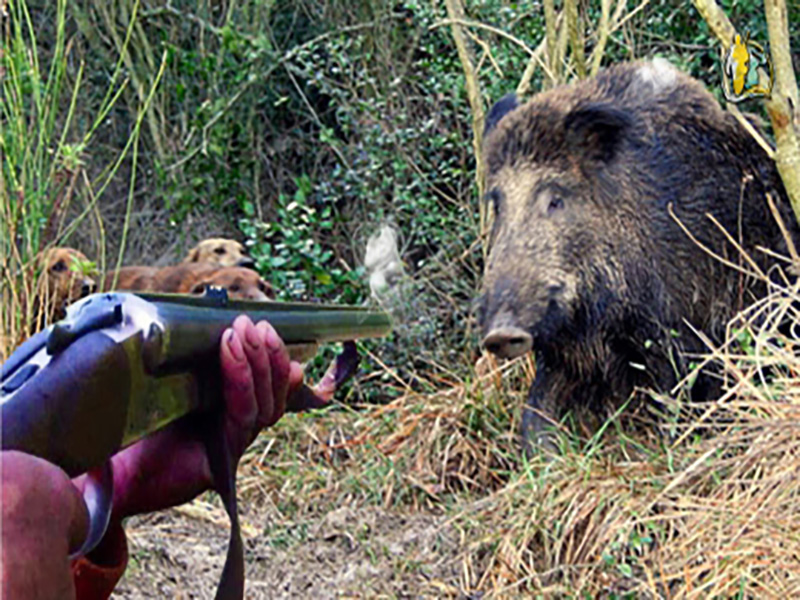cinghiale: (476, 50, 798, 445)
fucile: (3, 248, 406, 488)
